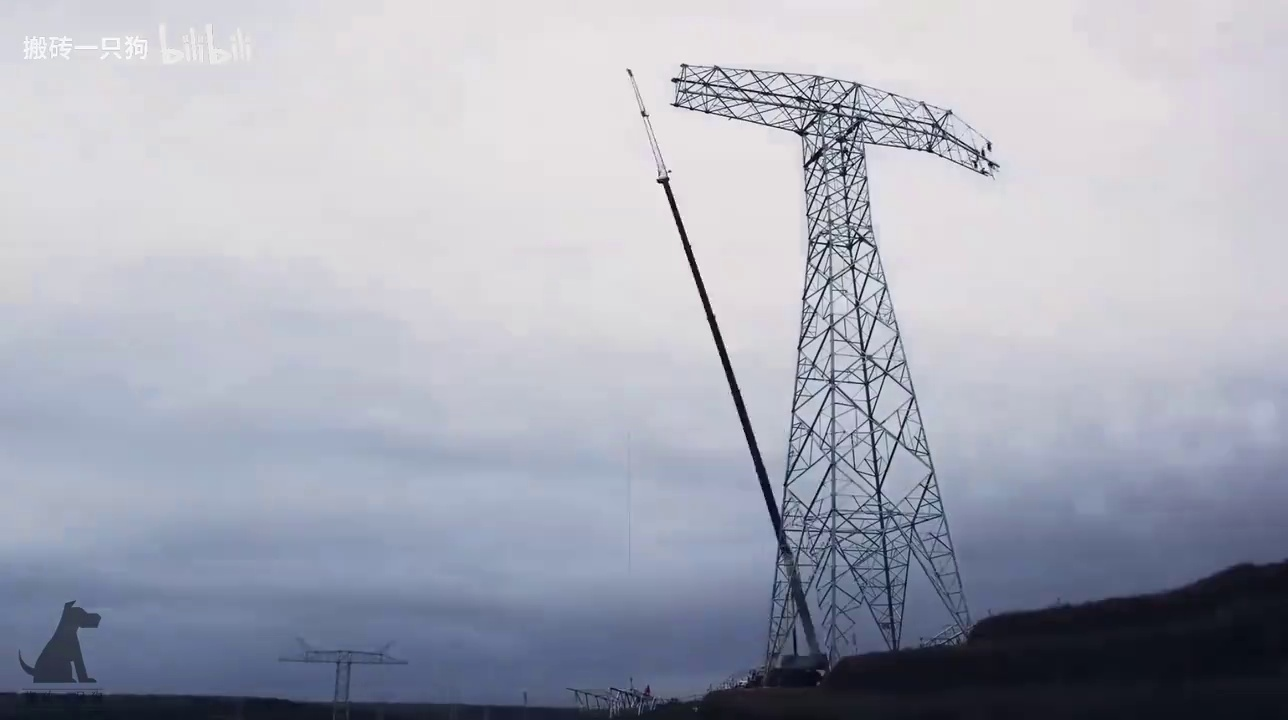tower_body: (653, 44, 1020, 666)
tower_foot: (761, 492, 977, 654)
tower_head: (666, 60, 1006, 183)
